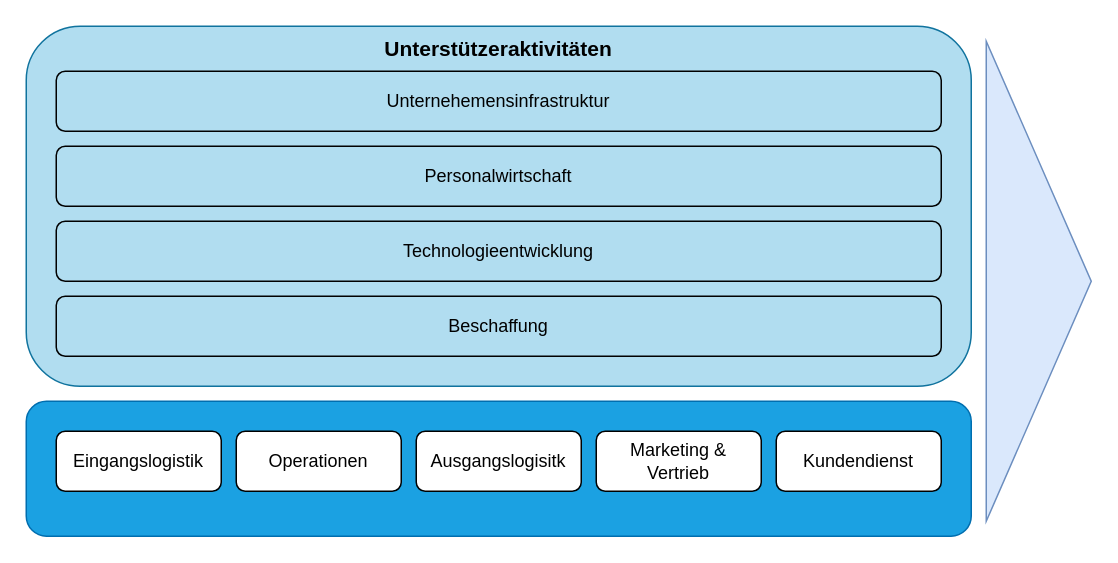
Some shapes in this 1118 by 563 pixel diagram are drawn without their labels. The box of each missing label's shape, as (x1, y1, x2, y2) in pixels:
Gewinn: (985, 40, 1091, 521)
Primäraktivitäten: (25, 400, 971, 536)
